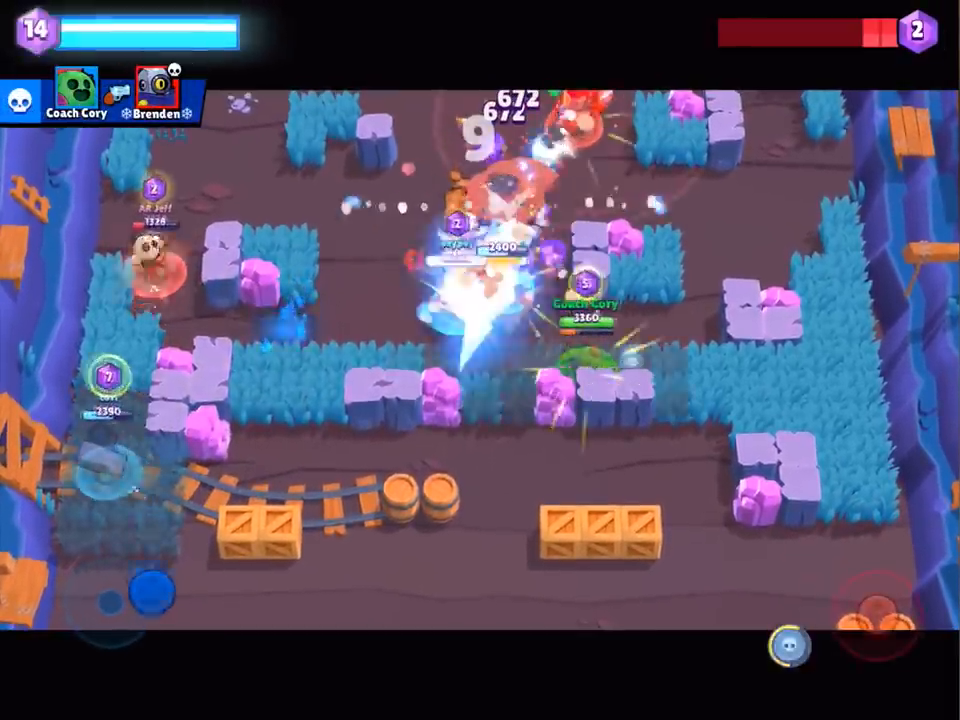move_stick: (130, 567, 177, 613)
red: (124, 211, 200, 296), (547, 88, 611, 143)
